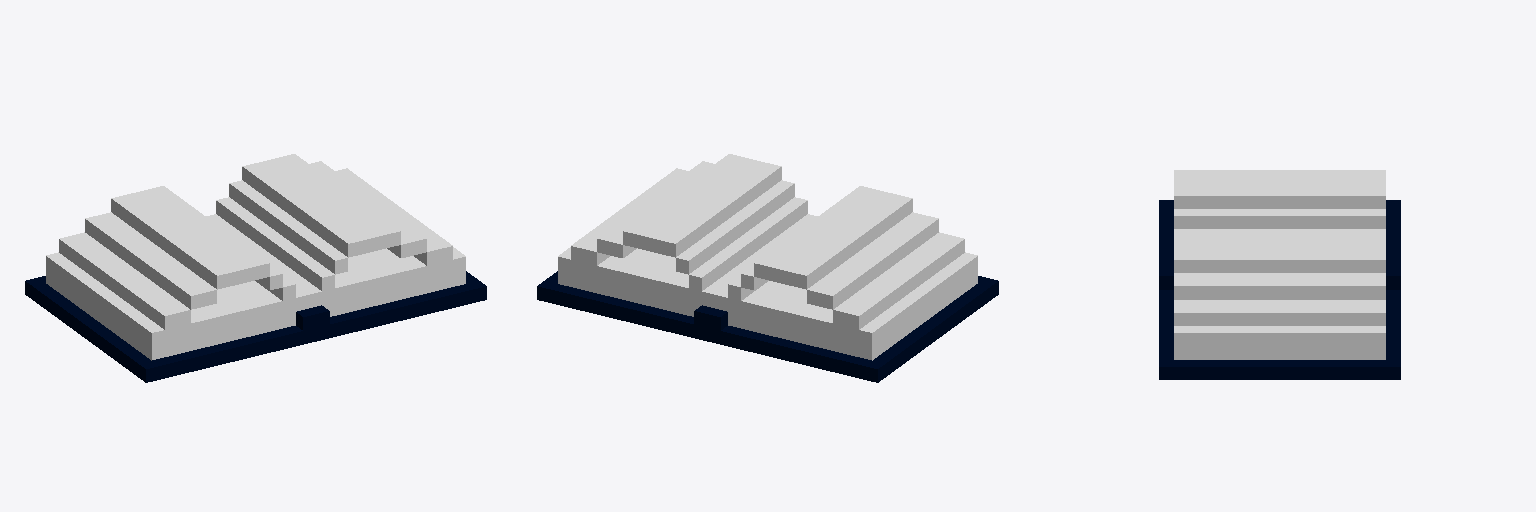
3 renders of one model, left to right at view 1: azimuth 30°, elevation 25°; view 2: azimuth 150°, elevation 25°; view 3: azimuth 270°, elevation 25°, orthographic.
Parts seen in each view (by area): view 1: object 1; view 2: object 1; view 3: object 1.
Boxes of the visible parts, x1,y1,x2,y2 form: object 1: [25, 154, 486, 382]; object 1: [537, 154, 998, 382]; object 1: [1159, 170, 1400, 379].
Bounding box in the file's own units: 2.6 × 0.6 × 1.6.
1 materials, 1 textured.